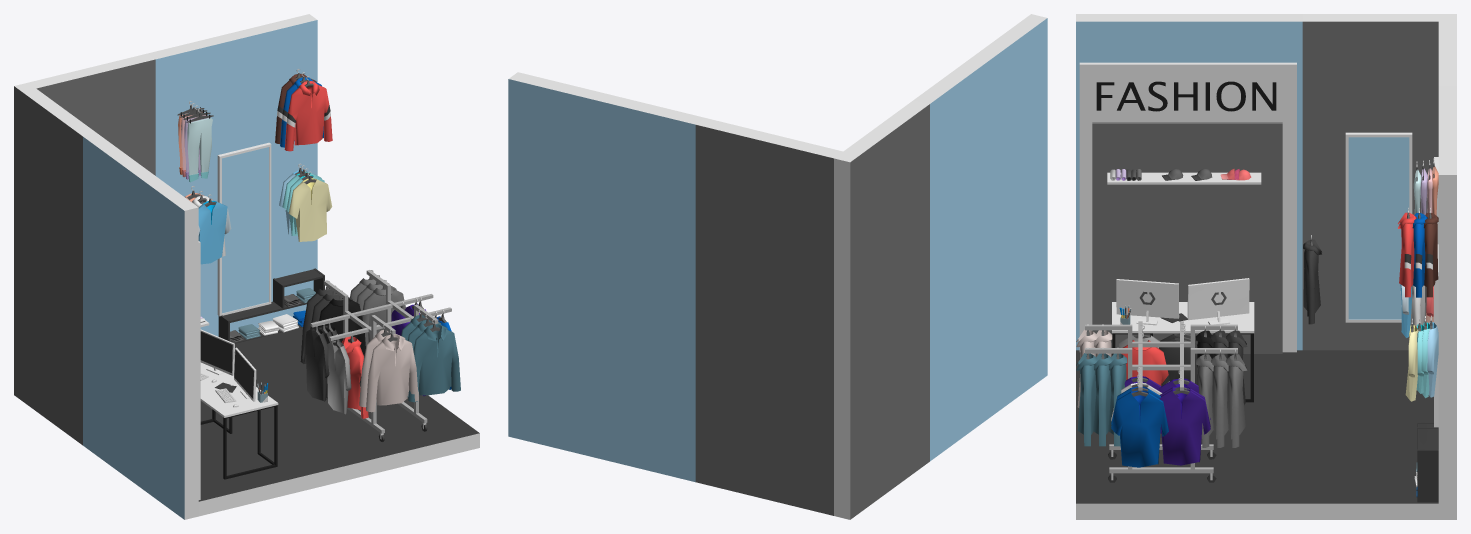
Rendered from room_13.glb.
3 views of the same model, side by side, from view 1: azimuth 30°, elevation 25°; view 2: azimuth 150°, elevation 25°; view 3: azimuth 270°, elevation 25° (orthographic). The views are drawn at different scales.
Parts seen in each view (by area): view 1: Walls_172.001, Walls_011.014, Walls_172.002, Walls_046.016, clothes_034.001, picture_054.004, Walls_046.017, office_table_035.001, clothes_006.001, clothes_017.001, shelf_044.001, clothes_003.001 (+4 smaller); view 2: Walls_172.002, Walls_046.017, Walls_172.001, Walls_046.016; view 3: Walls_011.014, Walls_050.004, Walls_046.016, clothes_034.001, Walls_003.022, Walls_172.001, picture_054.003, Walls_172.002, electronics_025.001, electronics_025.002, office_table_035.001, signboard_005.001 (+13 smaller).
Part boxes in pixels (x1,y1,x2,y2): Walls_172.001: [83, 133, 198, 519]; Walls_011.014: [198, 327, 479, 516]; Walls_172.002: [148, 14, 317, 336]; Walls_046.016: [14, 82, 96, 445]; clothes_034.001: [300, 270, 460, 441]; picture_054.004: [217, 142, 271, 316]; Walls_046.017: [28, 53, 155, 175]; office_table_035.001: [200, 362, 278, 479]; clothes_006.001: [284, 76, 332, 151]; clothes_017.001: [288, 171, 332, 241]; shelf_044.001: [218, 268, 324, 343]; clothes_003.001: [198, 194, 231, 264]; Walls_172.002: [508, 72, 704, 482]; Walls_046.017: [695, 118, 842, 515]; Walls_172.001: [914, 14, 1047, 461]; Walls_046.016: [834, 100, 929, 519]; Walls_011.014: [1076, 350, 1438, 519]; Walls_050.004: [1092, 122, 1282, 353]; Walls_046.016: [1302, 14, 1456, 350]; clothes_034.001: [1076, 321, 1247, 482]; Walls_003.022: [1079, 62, 1296, 352]; Walls_172.001: [1076, 14, 1302, 350]; picture_054.003: [1345, 132, 1412, 322]; Walls_172.002: [1438, 86, 1456, 519]; electronics_025.001: [1187, 278, 1249, 324]; electronics_025.002: [1116, 279, 1179, 325]; office_table_035.001: [1112, 302, 1254, 402]; signboard_005.001: [1096, 81, 1276, 111].
Bounding box in the file's own units: 4.22 × 4.2 × 4.2.
Materials: 1 (1 with a texture image).
